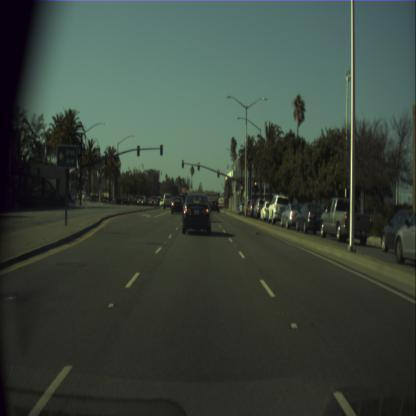Red: (216, 169, 220, 177), (254, 181, 257, 191), (182, 160, 184, 168), (198, 162, 200, 170), (241, 186, 243, 194)
